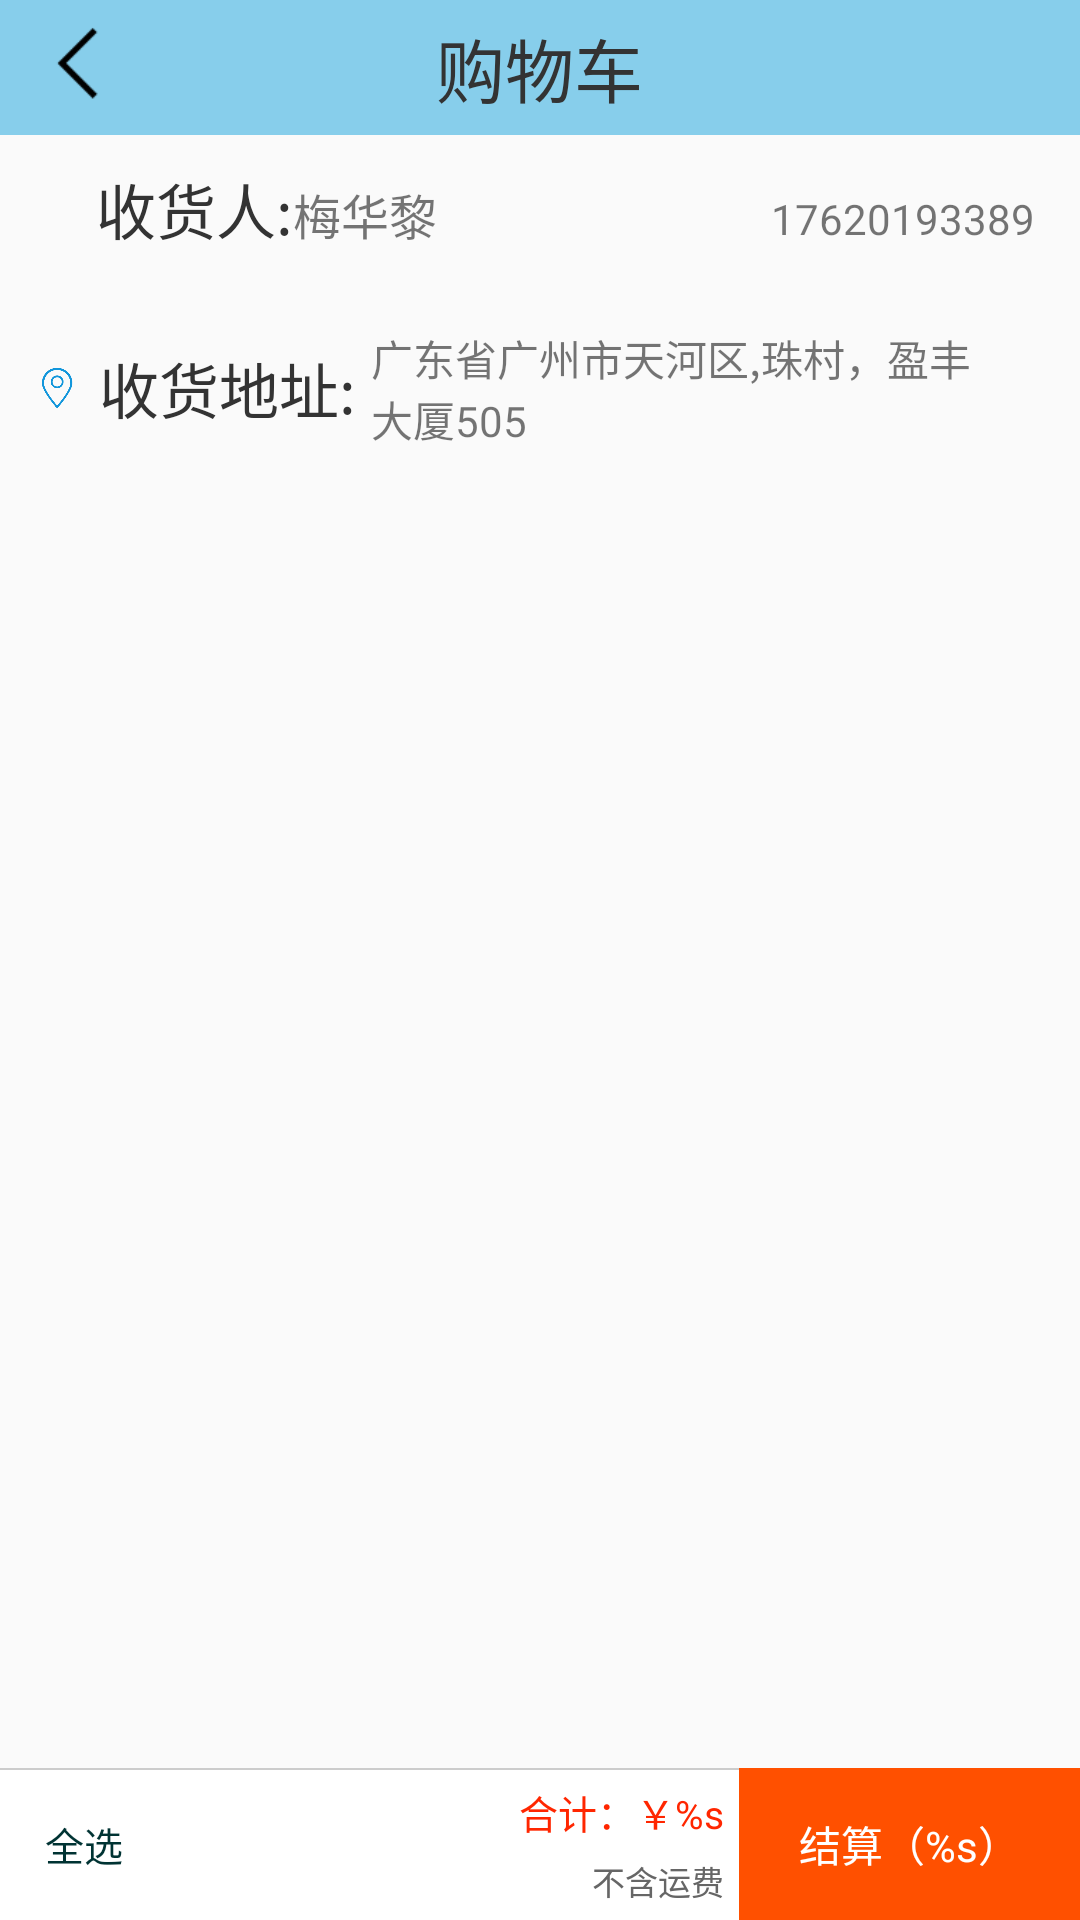

Icon click points for this 1080x1920 phone screenshot, format (x=x, y=y):
back: (x=77, y=63)
shouhuodizhi: (x=57, y=388)
